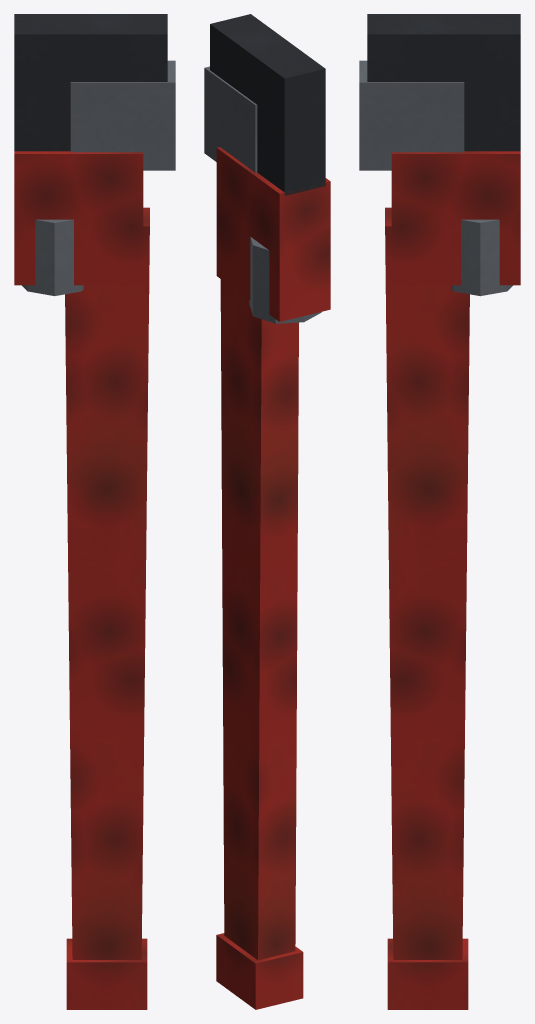
The model's file is weapon_pipe_wrench.glb.
3 renders of one model, left to right at view 1: azimuth 90°, elevation 25°; view 2: azimuth 210°, elevation 25°; view 3: azimuth 270°, elevation 25°, orthographic. The views are drawn at different scales.
Parts seen in each view (by area): view 1: Weapon_PipeWrench; view 2: Weapon_PipeWrench; view 3: Weapon_PipeWrench.
Boxes of the visible parts, <box> form: Weapon_PipeWrench: <box>14,14,175,1009</box>; Weapon_PipeWrench: <box>204,14,330,1009</box>; Weapon_PipeWrench: <box>359,14,520,1009</box>.
Bounding box in the file's own units: 0.038 × 0.533 × 0.08.
3 materials, 3 textured.
